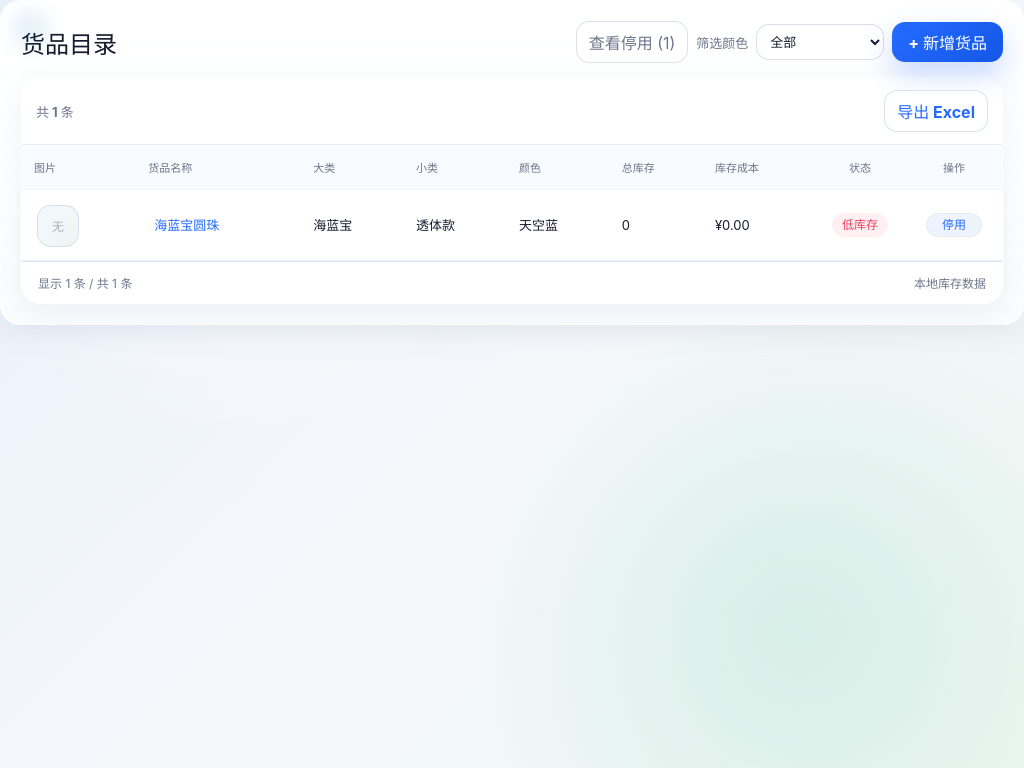
Test case: MaterialsPage › hides inactive materials by default and shows them from the inactive view
The image size is (1024, 768).
Expected: the text "海蓝宝圆珠" is shown, [154,217,219,233]
Expected: the text "测试货品1" is not shown
Step 1. Click the button "查看停用 (1)" → (632, 42), box [576,21,688,63]
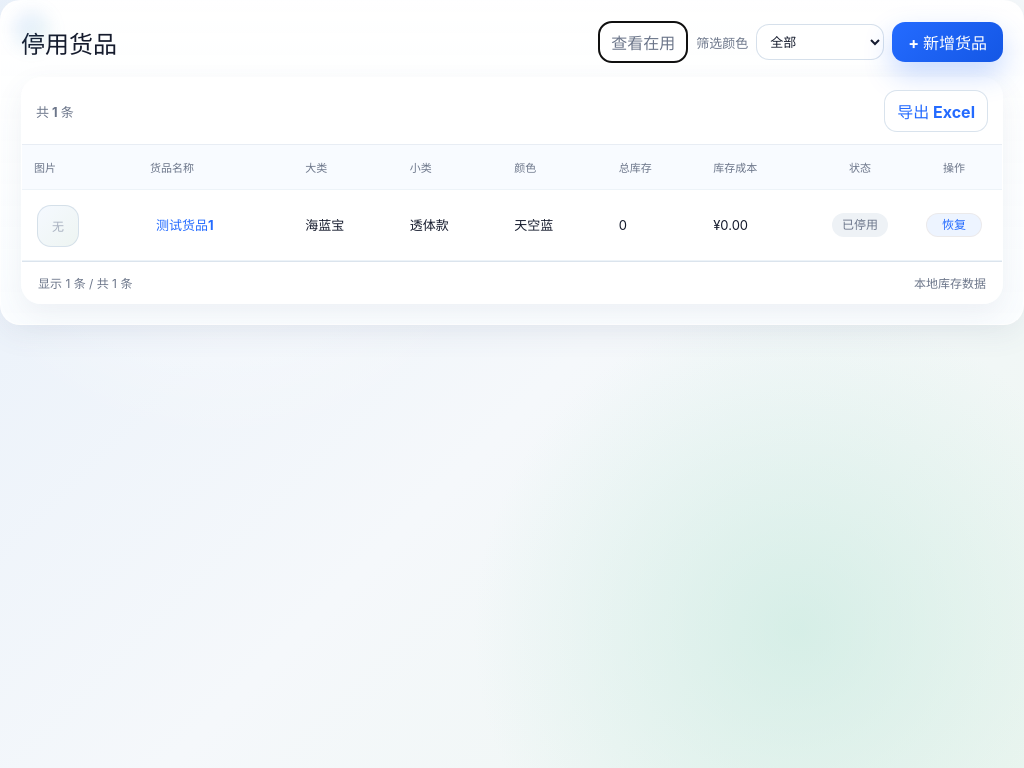
Now the button "海蓝宝圆珠" is gone
Now the text "测试货品1" is shown, box [156,217,214,233]
Now the button "恢复" is shown, box [926,212,982,236]
